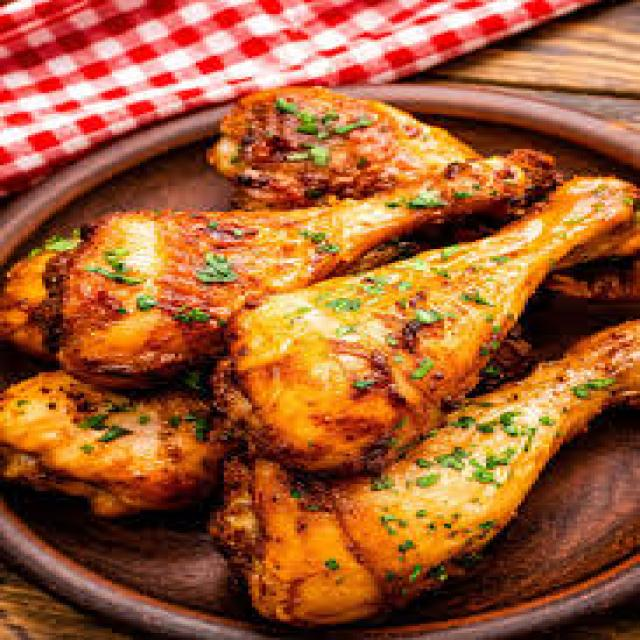Frango: (14, 77, 633, 624)
